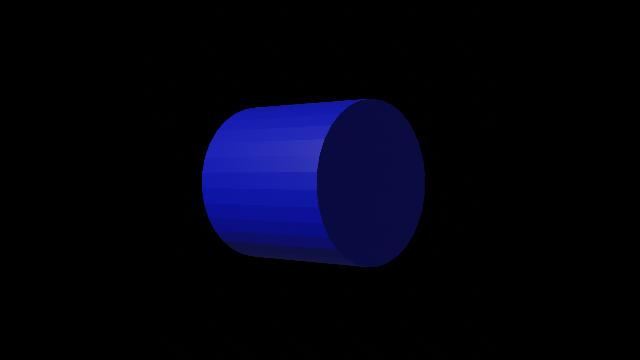Cylinder: (194, 85, 430, 275)
